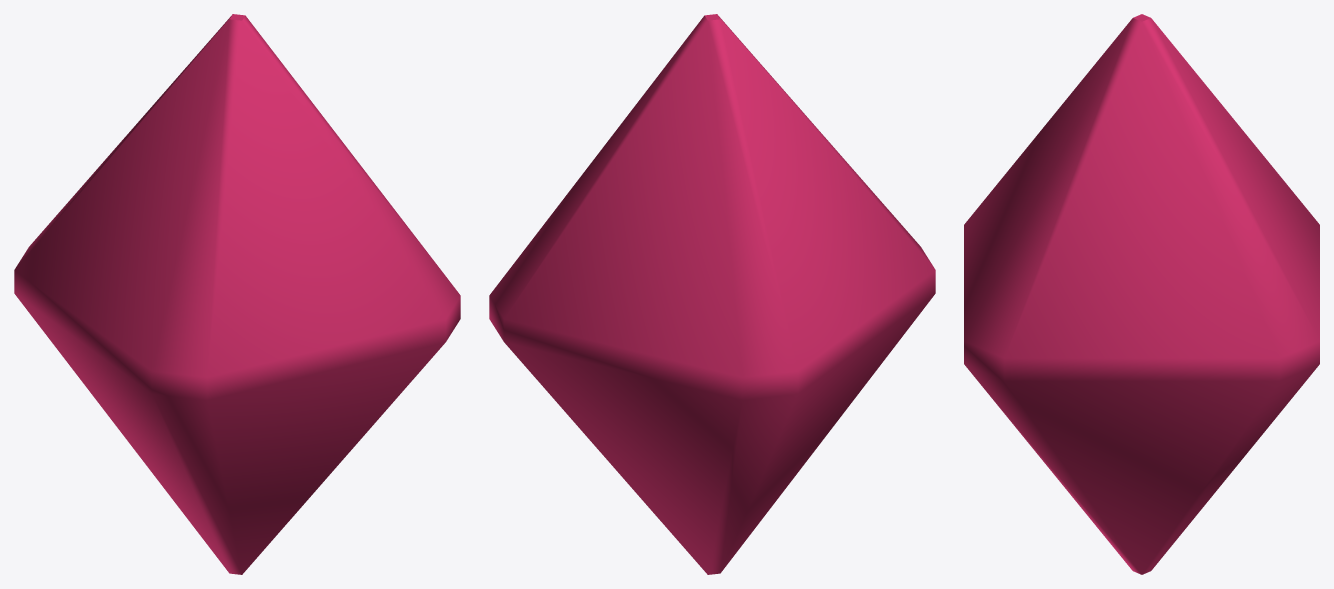
File: Gem_Pink.gltf
3 views of the same model, side by side, from view 1: azimuth 30°, elevation 25°; view 2: azimuth 150°, elevation 25°; view 3: azimuth 270°, elevation 25° (orthographic).
Parts seen in each view (by area): view 1: Gem_Pink; view 2: Gem_Pink; view 3: Gem_Pink.
Boxes of the visible parts, x1,y1,x2,y2 form: Gem_Pink: (14,14,460,574); Gem_Pink: (489,14,935,574); Gem_Pink: (964,14,1319,574).
Bounding box in the file's own units: 1.13 × 1.94 × 1.13.
